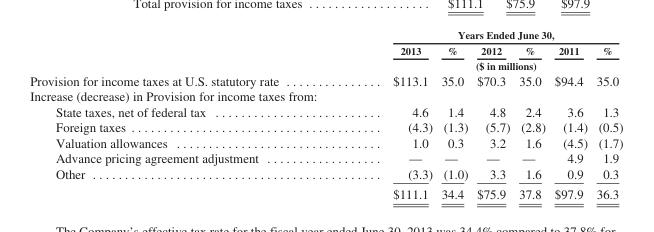table: (29, 28, 622, 201)
table column: (29, 28, 335, 201), (335, 28, 436, 201), (471, 28, 513, 201), (549, 28, 591, 201), (513, 28, 549, 201), (436, 28, 471, 201), (591, 28, 622, 201)
table column header: (29, 28, 622, 72)
table projected row header: (29, 88, 622, 103)
table row: (29, 165, 622, 183), (29, 183, 622, 201), (29, 72, 622, 88), (29, 103, 622, 119), (29, 134, 622, 150), (29, 42, 622, 57), (29, 57, 622, 72), (29, 88, 622, 103), (29, 119, 622, 134), (29, 150, 622, 165), (29, 28, 622, 42)
table spanning cell: (335, 57, 622, 72), (335, 28, 622, 42)
